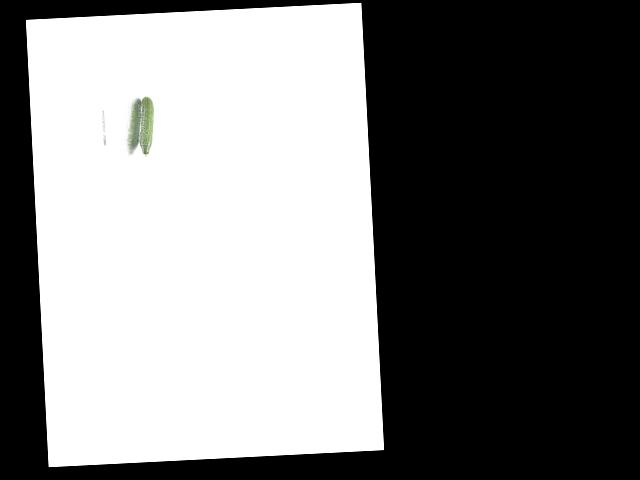cucumber: (136, 97, 156, 157)
